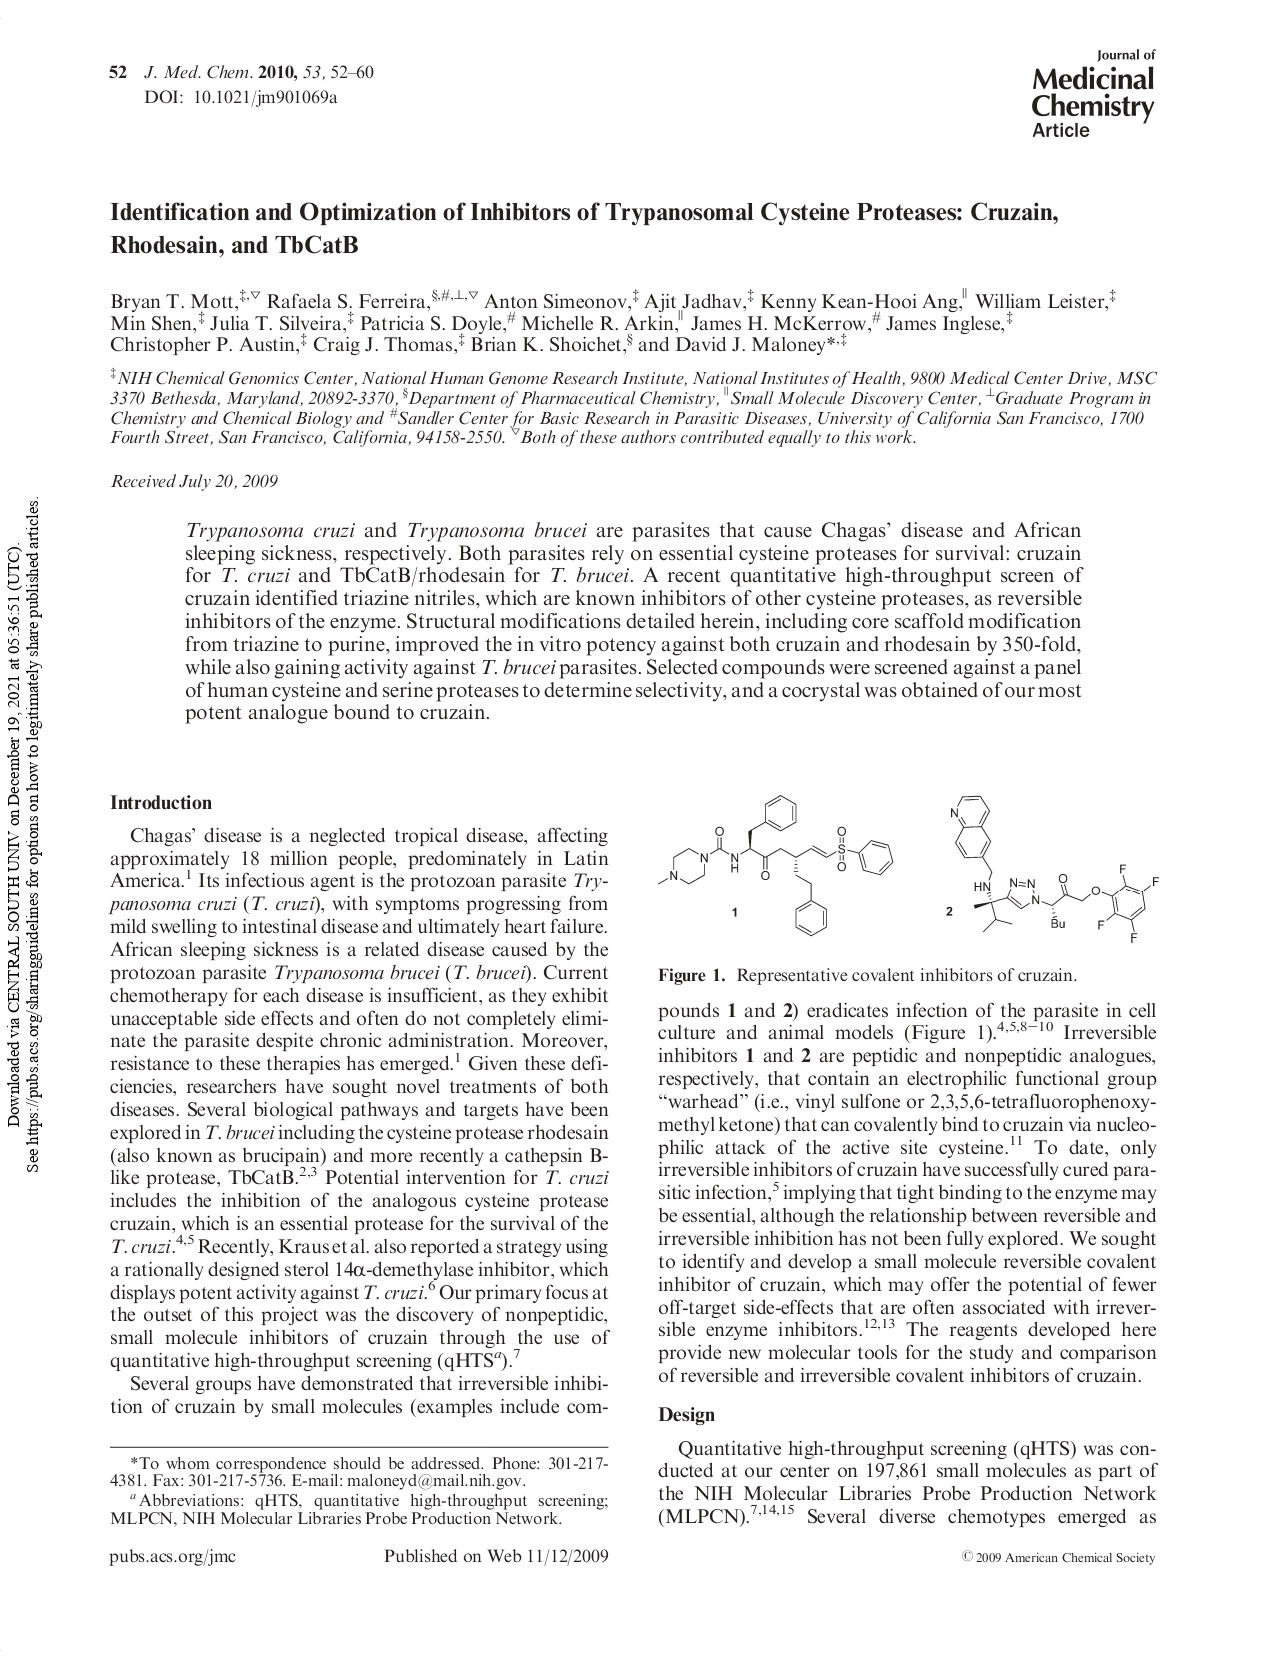exist_molecular: (656, 793, 898, 939), (949, 793, 1164, 946)
